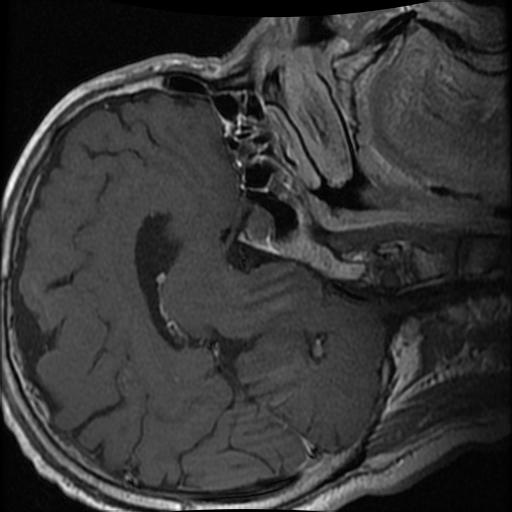pituitary tumour: (238, 207, 276, 249)
